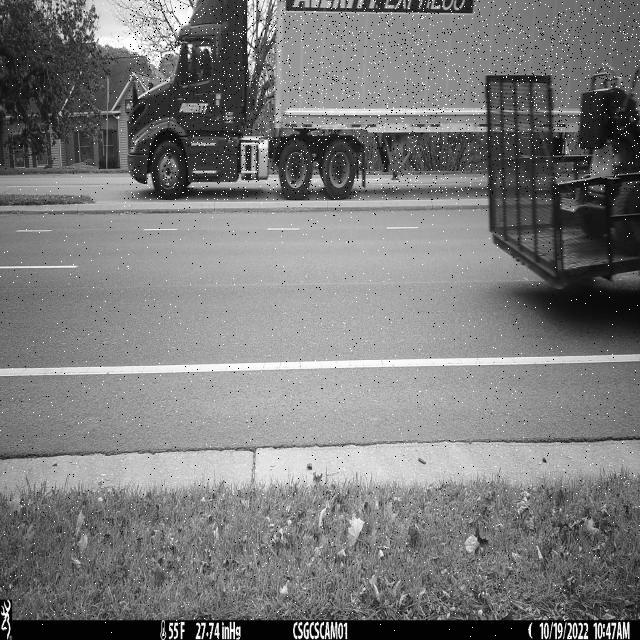Box Truck: (129, 0, 640, 200)
